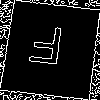F: (25, 24, 66, 74)
